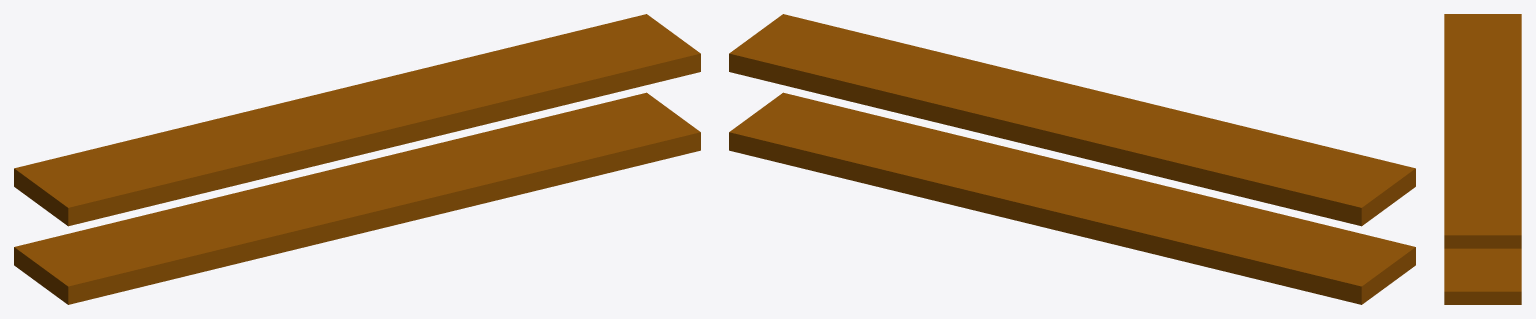
Rendered from slot-02.glb.
3 views of the same model, side by side, from view 1: azimuth 30°, elevation 25°; view 2: azimuth 150°, elevation 25°; view 3: azimuth 270°, elevation 25° (orthographic). The views are drawn at different scales.
Parts seen in each view (by area): view 1: Cube.020; view 2: Cube.020; view 3: Cube.020.
Boxes of the visible parts, x1,y1,x2,y2 form: Cube.020: [14, 14, 700, 304]; Cube.020: [729, 14, 1415, 304]; Cube.020: [1444, 14, 1521, 304].
Bounding box in the file's own units: 2.07 × 0.3039 × 0.3066.
